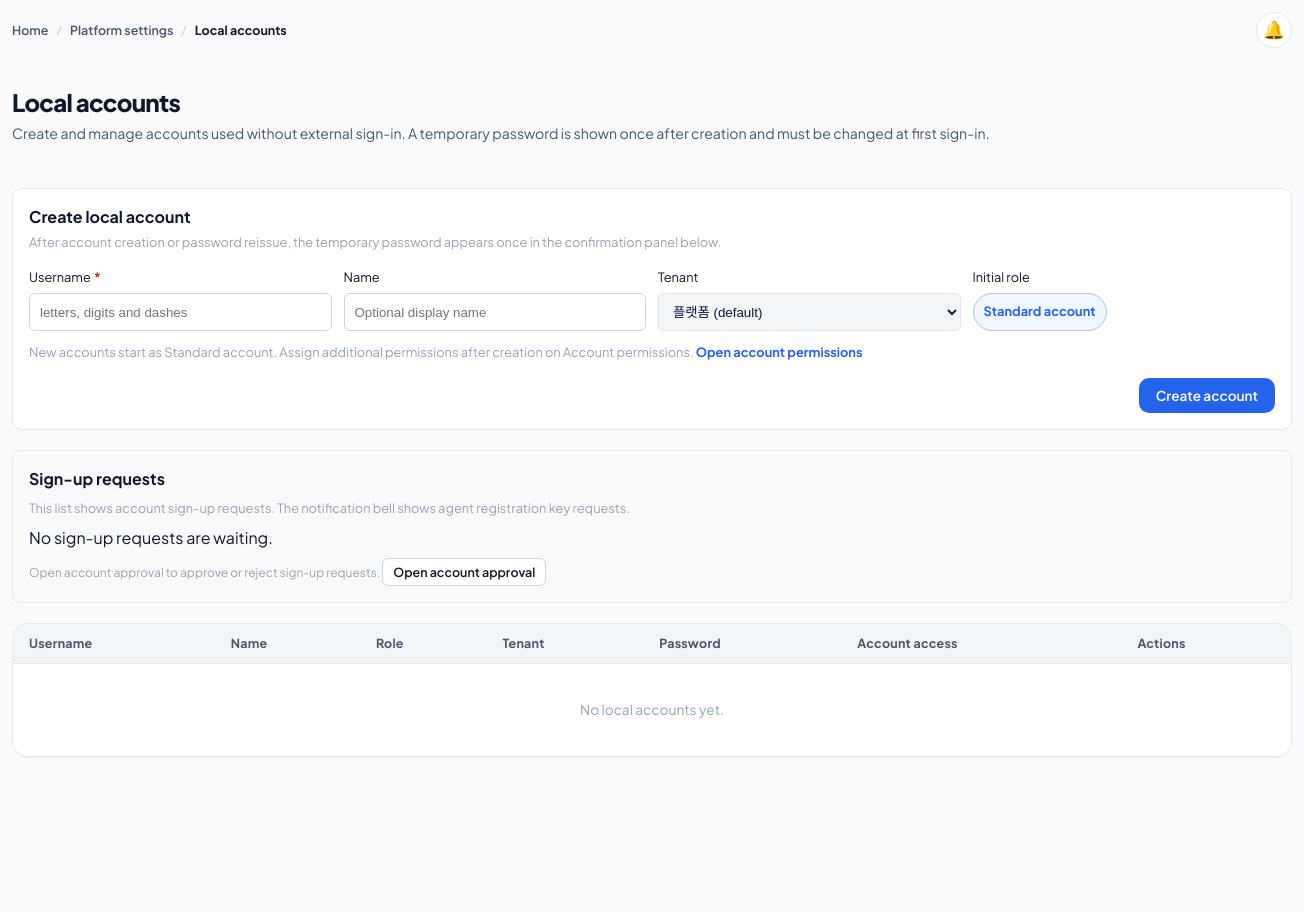
Test: the one temporary password › shows the password the server issued, under the name the server confirmed
In the field with test id "admit-username": (180, 312) [29,293,332,331], type "Newbie"
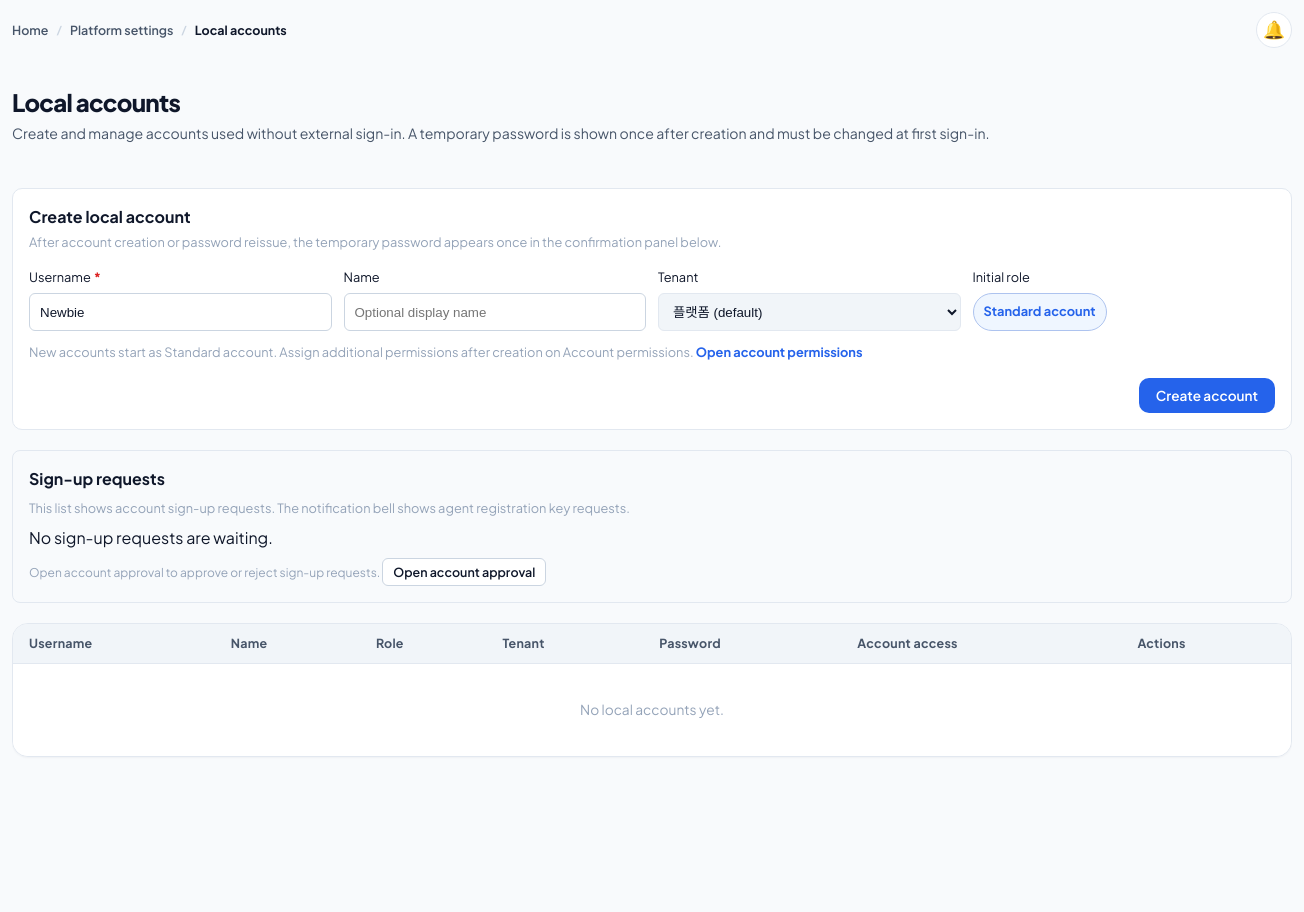
In the field with test id "admit-display": (495, 312) [344,293,646,331], type "New Bie"
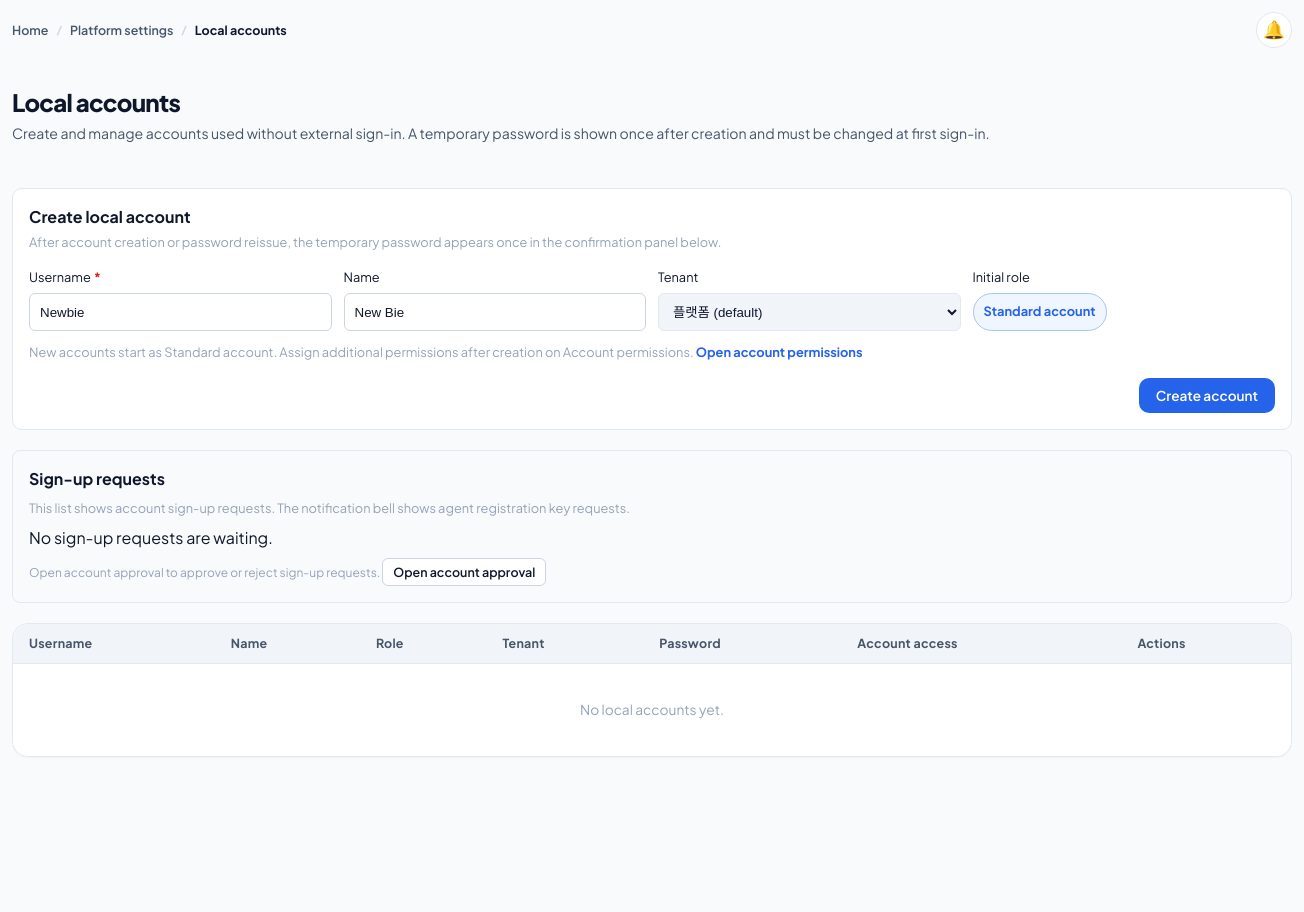
Submit the form with test id "admit-form", box [12,188,1292,430]
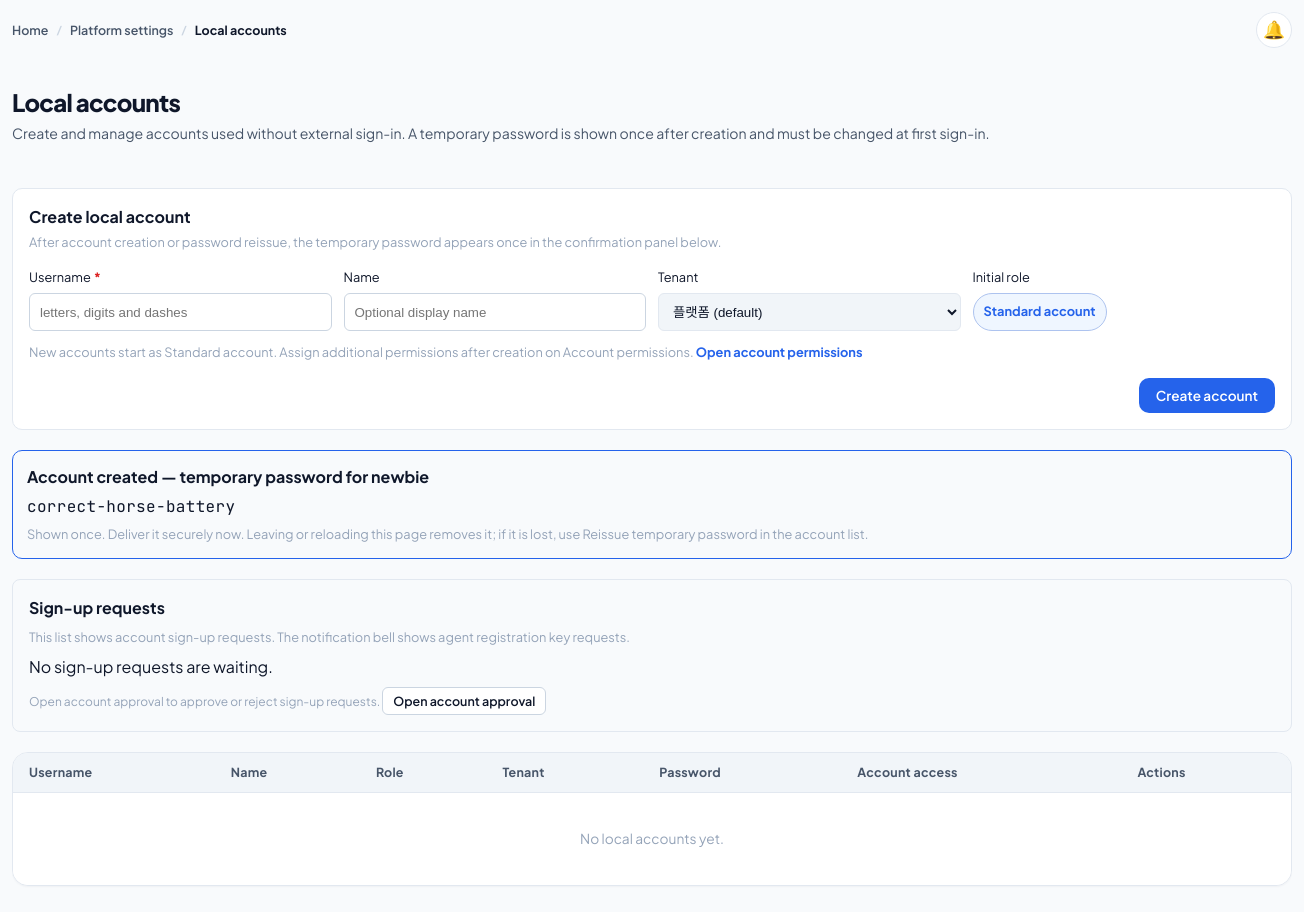
Expected: the text with test id "issued-value" reads "correct-horse-battery", [27,496,235,517]
Expected: the element with test id "issued-password" shows "newbie", [371,466,429,487]
Expected: the element with test id "issued-password" shows "Shown once. Deliver it securely now. Leaving or reloading this page removes it; if it is lost, use Reissue temporary password in the account list.", [27,526,868,542]
